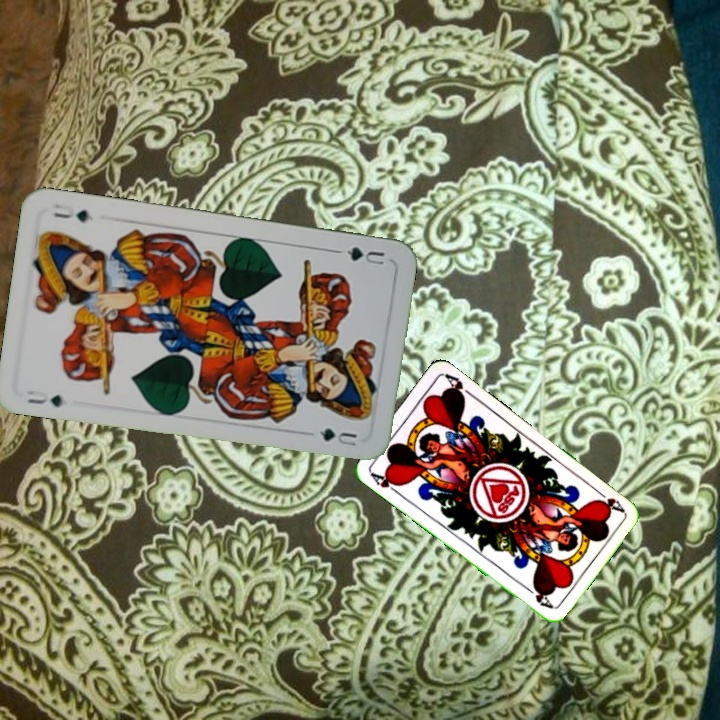GU: (342, 243, 387, 268), (22, 386, 66, 410)
HA: (366, 468, 404, 497), (591, 485, 626, 515)
